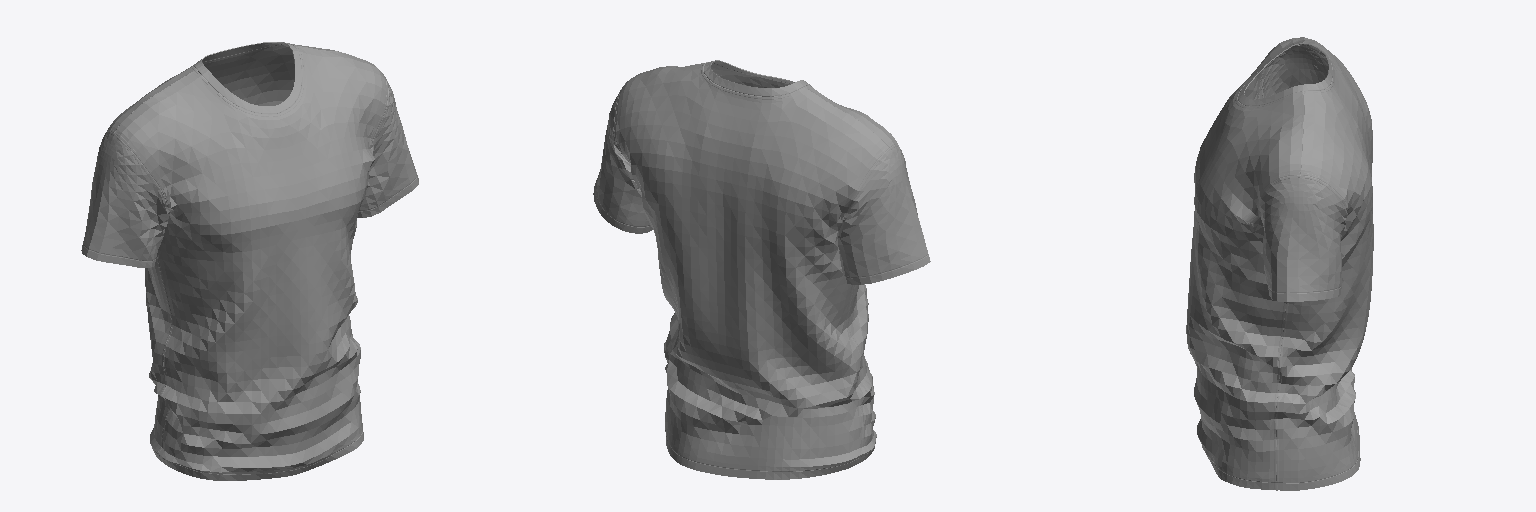
Rendered from shirt.obj.
3 renders of one model, left to right at view 1: azimuth 30°, elevation 25°; view 2: azimuth 150°, elevation 25°; view 3: azimuth 270°, elevation 25°, orthographic.
Visible parts, largest first — view 1: T_Shirt_male; view 2: T_Shirt_male; view 3: T_Shirt_male.
Part boxes in pixels (x1,y1,x2,y2): T_Shirt_male: (81,42,418,480); T_Shirt_male: (593,60,930,479); T_Shirt_male: (1186,37,1373,490).
Size of the model in its own units: 7.25 by 8.05 by 3.54.